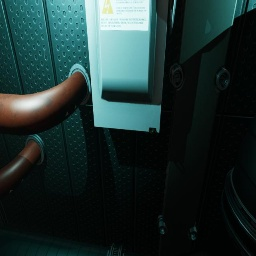SafetySwitchPanel ,: (85, 0, 176, 134)
